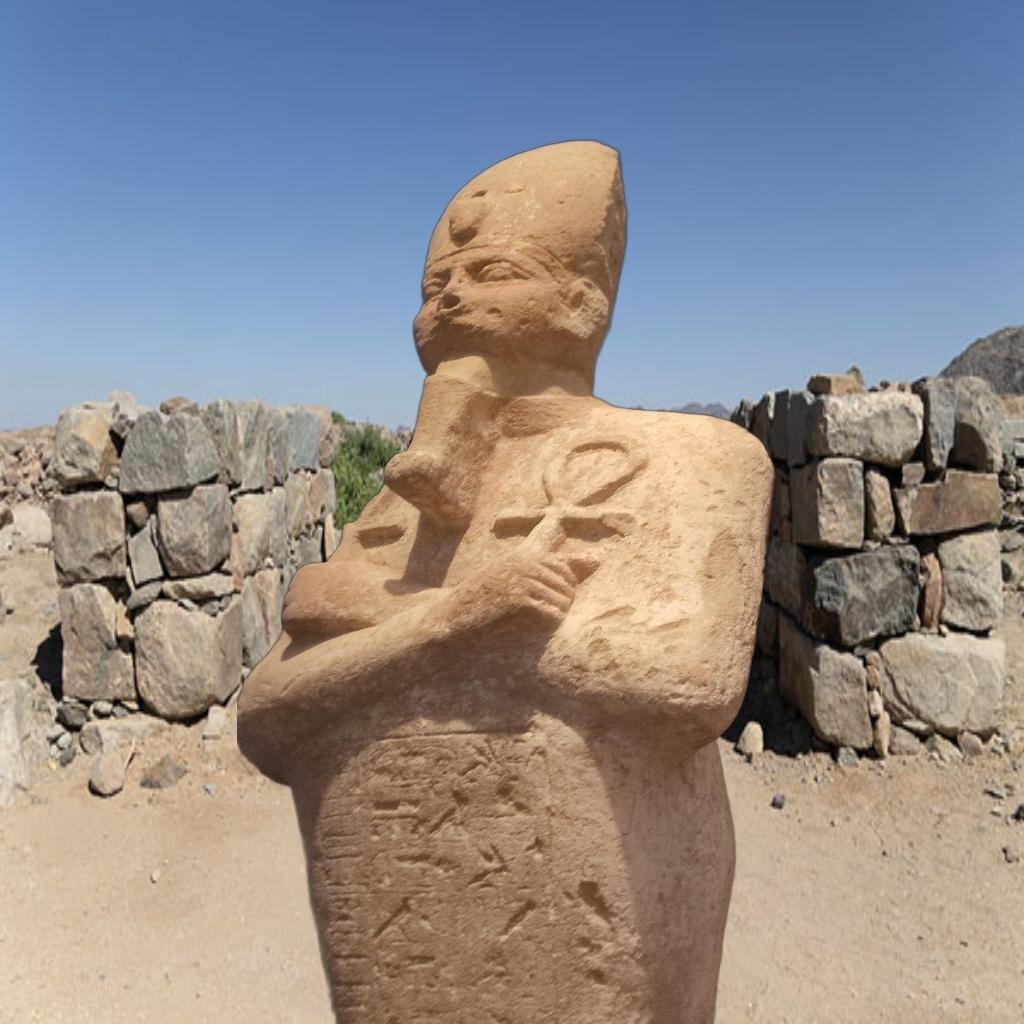Statue of Mentuhotep II: (237, 136, 784, 1024)
